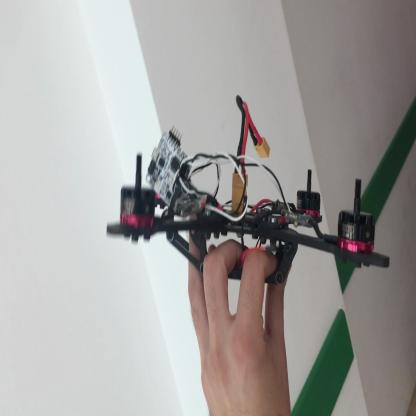drone: (100, 119, 394, 310)
